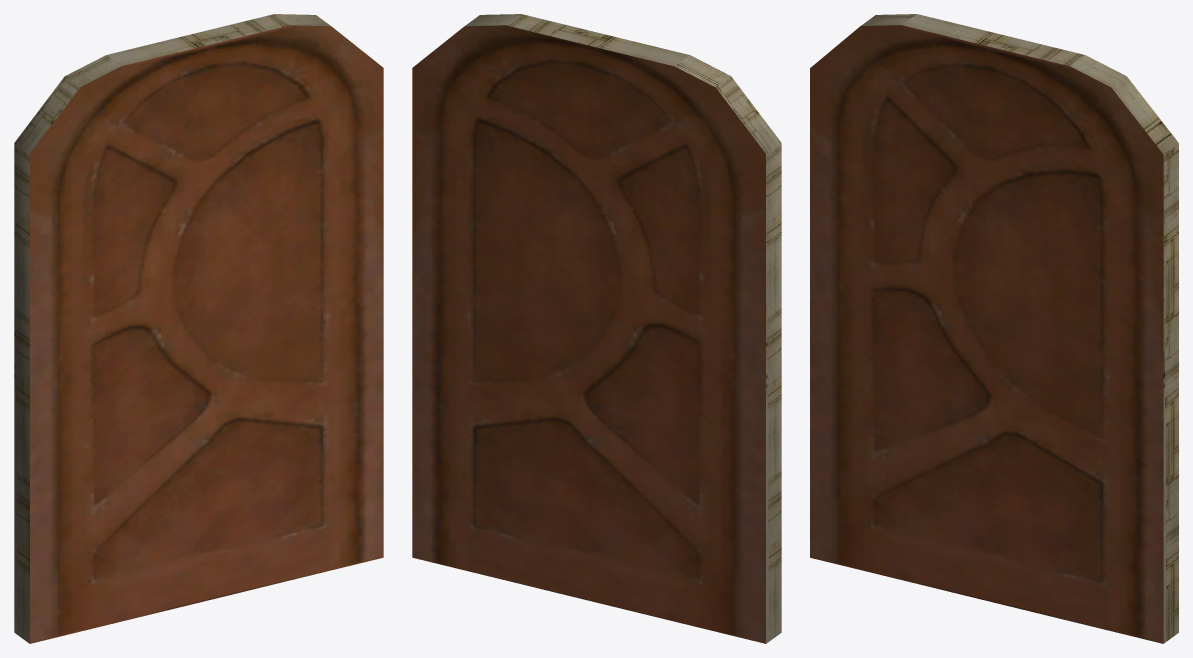
File: ply_tato_house_door_s01_l0.fbx
3 views of the same model, side by side, from view 1: azimuth 30°, elevation 25°; view 2: azimuth 150°, elevation 25°; view 3: azimuth 330°, elevation 25° (orthographic).
Visible parts, largest first — view 1: mesh_node; view 2: mesh_node; view 3: mesh_node.
Part boxes in pixels (<box>): mesh_node: <box>14,14,383,643</box>; mesh_node: <box>412,14,781,643</box>; mesh_node: <box>810,14,1178,643</box>.
Bounding box in the file's own units: 2.52 × 3.79 × 0.1909.
Materials: 2 (2 with a texture image).
